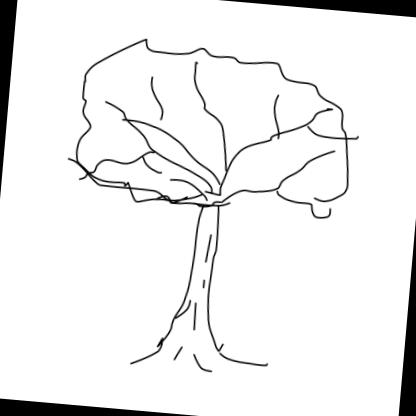branch_line: (92, 66, 334, 198)
crown_cloud: (65, 31, 368, 224)
trunk_bark: (174, 224, 228, 333)
